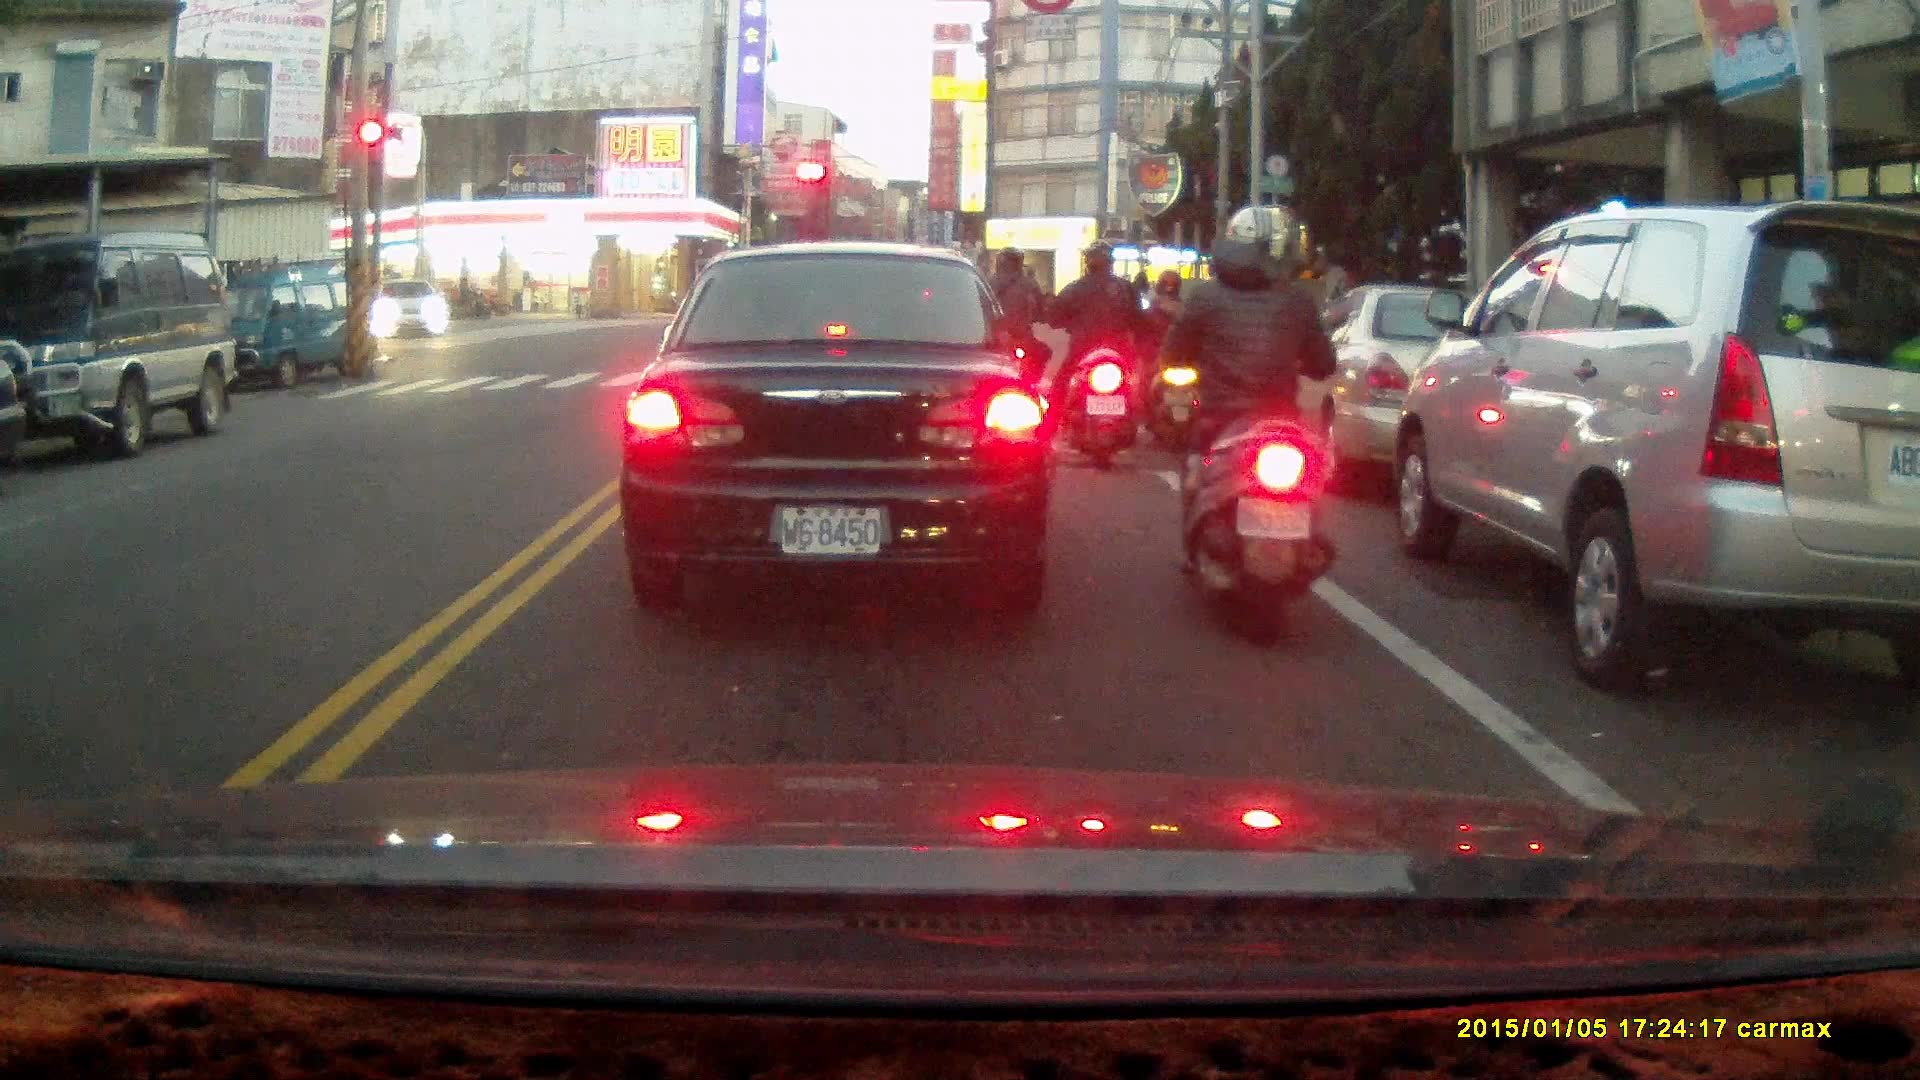rider: (1139, 201, 1349, 651), (1048, 242, 1141, 468), (962, 247, 1052, 431), (1135, 270, 1205, 451), (439, 277, 482, 316)
vehicle: (1383, 215, 1912, 697), (627, 244, 1057, 603), (1256, 284, 1595, 492), (1, 234, 239, 457), (188, 261, 379, 393), (372, 277, 451, 343)
